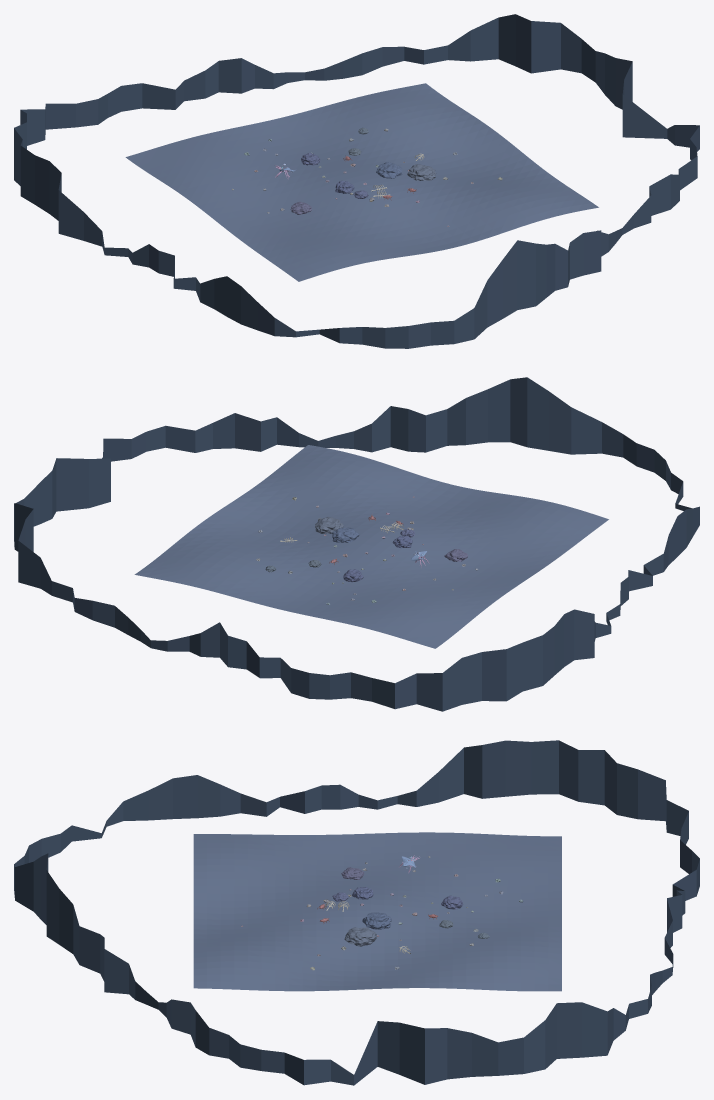
The model's file is sea.glb.
3 renders of one model, top to bottom at view 1: azimuth 30°, elevation 25°; view 2: azimuth 150°, elevation 25°; view 3: azimuth 270°, elevation 25°, orthographic. The views are drawn at different scales.
Visible parts, largest first — view 1: seabed, ridge; view 2: seabed, ridge; view 3: seabed, ridge.
Boxes of the visible parts, x1=… form: seabed: x1=125, y1=83, x2=598, y2=281; ridge: x1=14, y1=14, x2=699, y2=348; seabed: x1=134, y1=445, x2=608, y2=648; ridge: x1=14, y1=377, x2=699, y2=711; seabed: x1=193, y1=832, x2=561, y2=991; ridge: x1=14, y1=740, x2=699, y2=1085.
Size of what is drawn, in the model's own units: 207 by 27.08 by 205.
